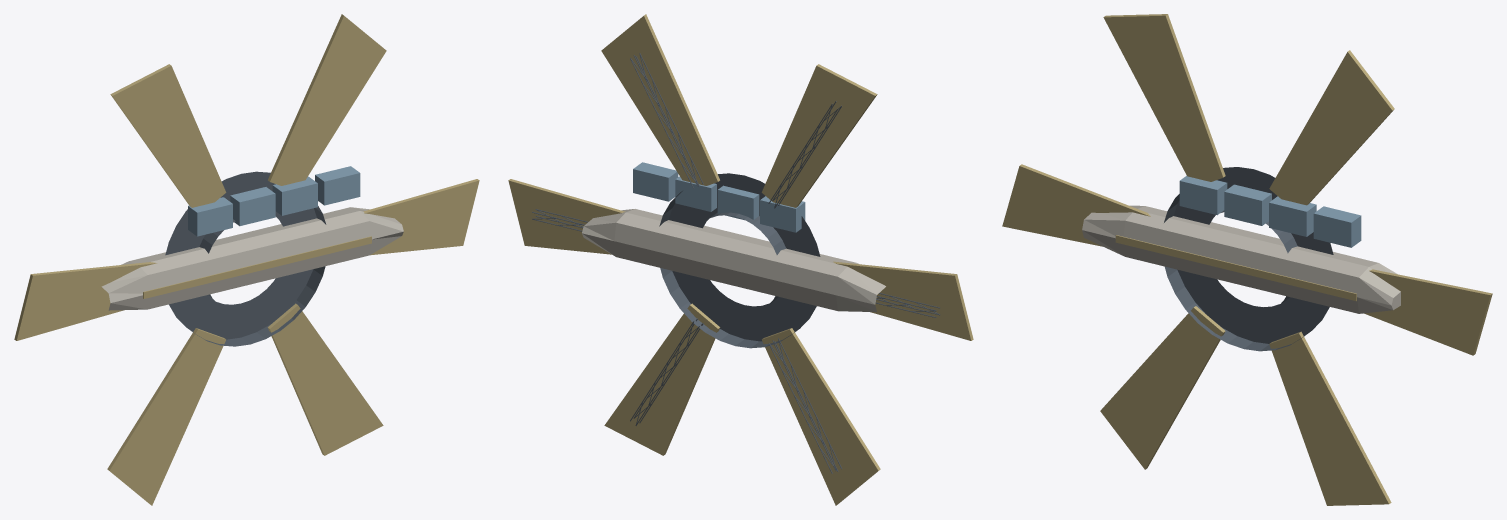
File: 12_borrowed_sun.glb
The picture shows the model from 3 angles, left to right: view 1: azimuth 30°, elevation 25°; view 2: azimuth 150°, elevation 25°; view 3: azimuth 330°, elevation 25°; orthographic projection. The views are drawn at different scales.
Parts seen in each view (by area): view 1: HULL_092, part_001, part_062, part_017, part_077, part_032, part_047, part_002, part_093, part_113, part_111, part_110 (+1 smaller); view 2: HULL_092, part_001, part_062, part_017, part_032, part_077, part_047, part_002, part_113, part_110, part_111, part_112; view 3: HULL_092, part_077, part_032, part_001, part_062, part_017, part_002, part_047, part_093, part_113, part_111, part_110 (+1 smaller).
Boxes of the visible parts, bbox=[...] form: HULL_092: bbox=[101, 207, 403, 310]; part_001: bbox=[165, 171, 326, 346]; part_062: bbox=[107, 328, 225, 505]; part_017: bbox=[268, 14, 386, 185]; part_077: bbox=[267, 303, 383, 455]; part_032: bbox=[110, 64, 226, 207]; part_047: bbox=[14, 262, 157, 340]; part_002: bbox=[363, 179, 479, 255]; part_093: bbox=[143, 236, 371, 298]; part_113: bbox=[315, 166, 360, 205]; part_111: bbox=[230, 187, 275, 226]; part_110: bbox=[188, 197, 232, 236]; HULL_092: bbox=[582, 209, 885, 312]; part_001: bbox=[659, 173, 820, 348]; part_062: bbox=[762, 328, 880, 505]; part_017: bbox=[601, 14, 719, 185]; part_032: bbox=[761, 64, 877, 207]; part_077: bbox=[604, 303, 720, 455]; part_047: bbox=[833, 261, 973, 340]; part_002: bbox=[508, 179, 625, 254]; part_113: bbox=[633, 162, 678, 201]; part_110: bbox=[760, 196, 805, 232]; part_111: bbox=[717, 185, 759, 220]; part_112: bbox=[675, 176, 716, 211]; HULL_092: bbox=[1082, 205, 1400, 313]; part_077: bbox=[1269, 331, 1391, 505]; part_032: bbox=[1103, 14, 1225, 181]; part_001: bbox=[1164, 167, 1333, 351]; part_062: bbox=[1100, 306, 1225, 469]; part_017: bbox=[1269, 50, 1394, 205]; part_002: bbox=[1364, 269, 1492, 355]; part_047: bbox=[1002, 164, 1150, 246]; part_093: bbox=[1115, 235, 1356, 301]; part_113: bbox=[1313, 206, 1361, 247]; part_111: bbox=[1224, 184, 1271, 225]; part_110: bbox=[1179, 175, 1227, 215].
Bounding box in the file's own units: 142 × 130 × 12.35.
